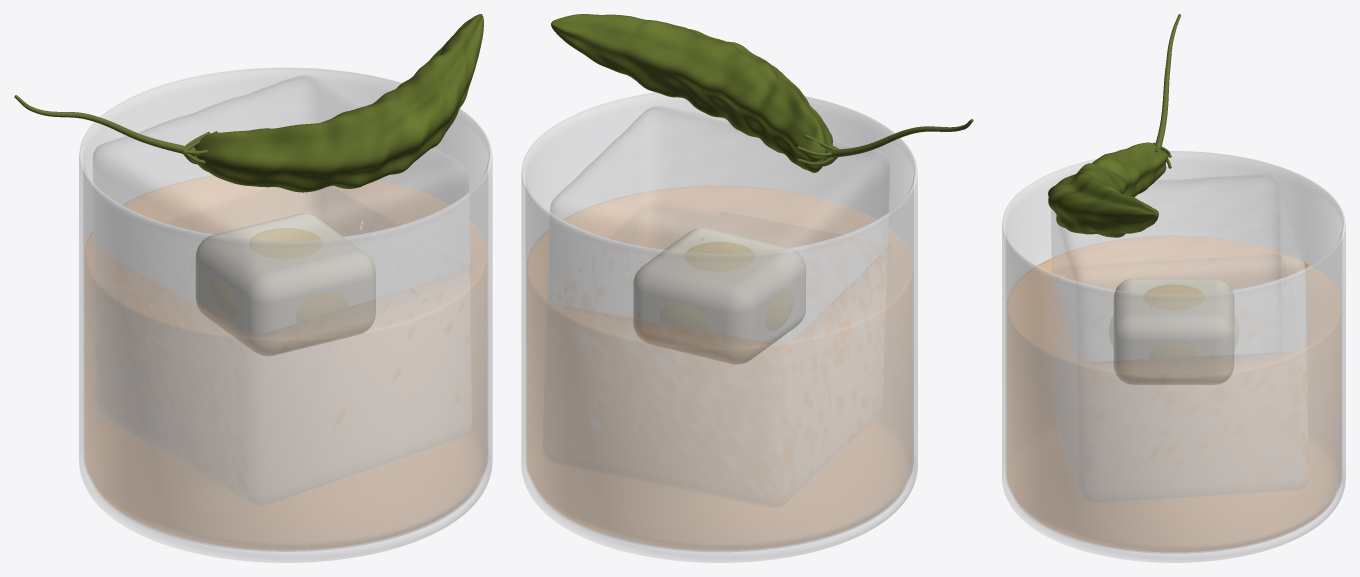
Rendered from negroni-express-interfaces-air-gap.glb.
3 views of the same model, side by side, from view 1: azimuth 30°, elevation 25°; view 2: azimuth 150°, elevation 25°; view 3: azimuth 270°, elevation 25° (orthographic). The views are drawn at different scales.
Visible parts, largest first — view 1: glass, liquid, ice, garnish_shishito, recipe_bitter, recipe_modifiers, garnish_stem; view 2: glass, liquid, ice, recipe_bitter, garnish_shishito, recipe_modifiers, garnish_stem; view 3: glass, liquid, ice, recipe_bitter, garnish_shishito, recipe_modifiers, garnish_stem.
Boxes of the visible parts, box(x1,y1,x2,y2) form: glass: box(79, 67, 492, 562); liquid: box(85, 175, 486, 549); ice: box(93, 75, 469, 304); garnish_shishito: box(193, 14, 483, 192); recipe_bitter: box(196, 213, 375, 355); recipe_modifiers: box(208, 228, 347, 322); garnish_stem: box(14, 95, 217, 164); glass: box(521, 92, 917, 562); liquid: box(527, 186, 912, 550); ice: box(547, 106, 889, 342); recipe_bitter: box(633, 227, 805, 364); garnish_shishito: box(551, 14, 832, 172); recipe_modifiers: box(660, 242, 793, 330); garnish_stem: box(797, 119, 973, 166); glass: box(1002, 151, 1345, 562); liquid: box(1007, 236, 1340, 551); ice: box(1051, 173, 1306, 361); recipe_bitter: box(1114, 278, 1233, 384); garnish_shishito: box(1048, 142, 1168, 237); recipe_modifiers: box(1109, 284, 1238, 358); garnish_stem: box(1153, 14, 1180, 168).
Bounding box in the file's own units: 2.54 × 2.41 × 2.
